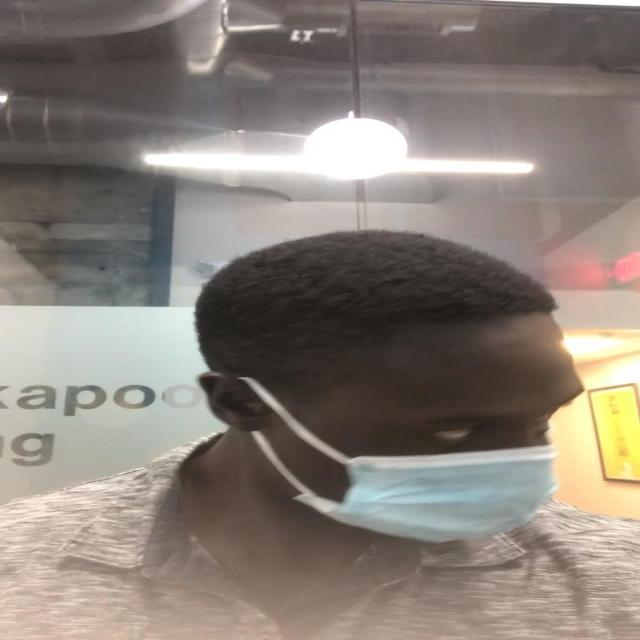face: (220, 318, 578, 542)
